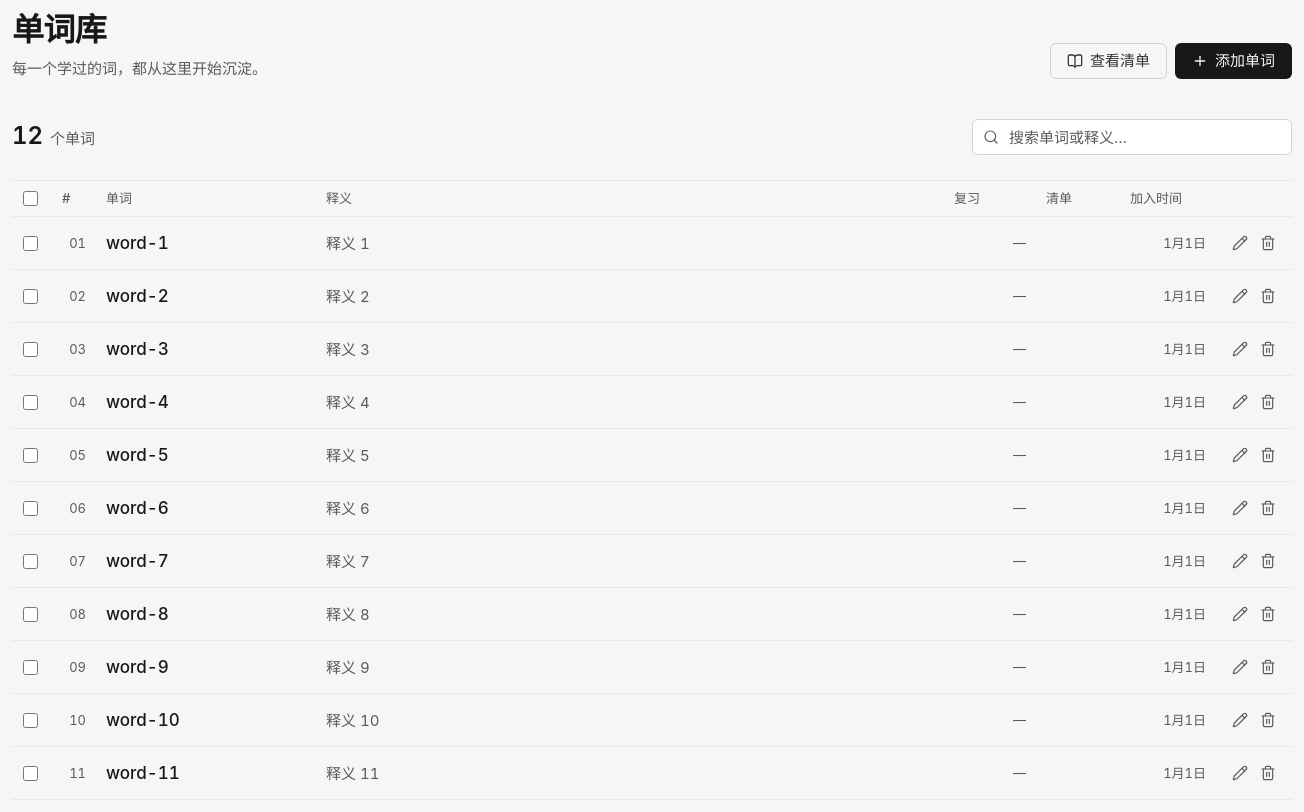
Scenario: 单词的批量删除 › 清空选择后操作条消失
Click the checkbox named "选择 word-1" at (30, 243), box [22,236,38,251]
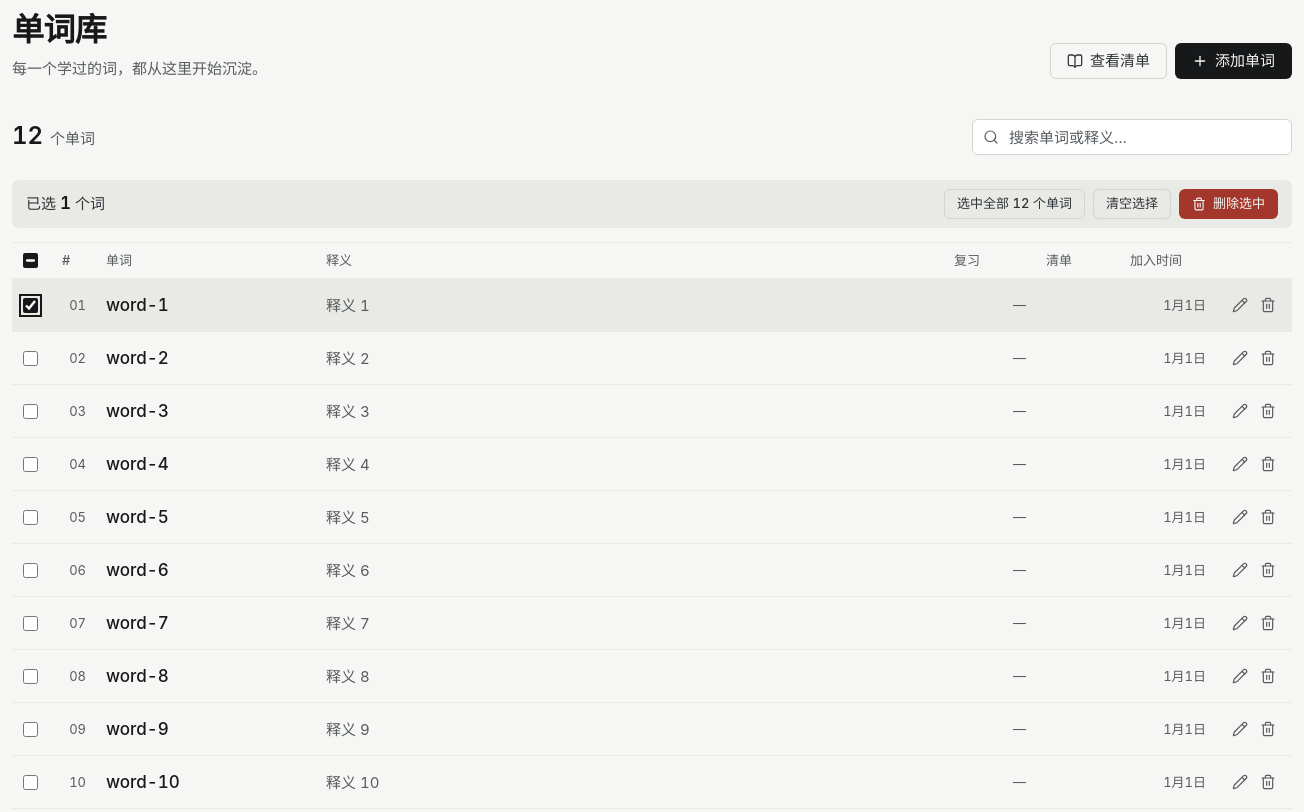
Click the checkbox named "选择 word-2" at (30, 358), box [22,351,38,366]
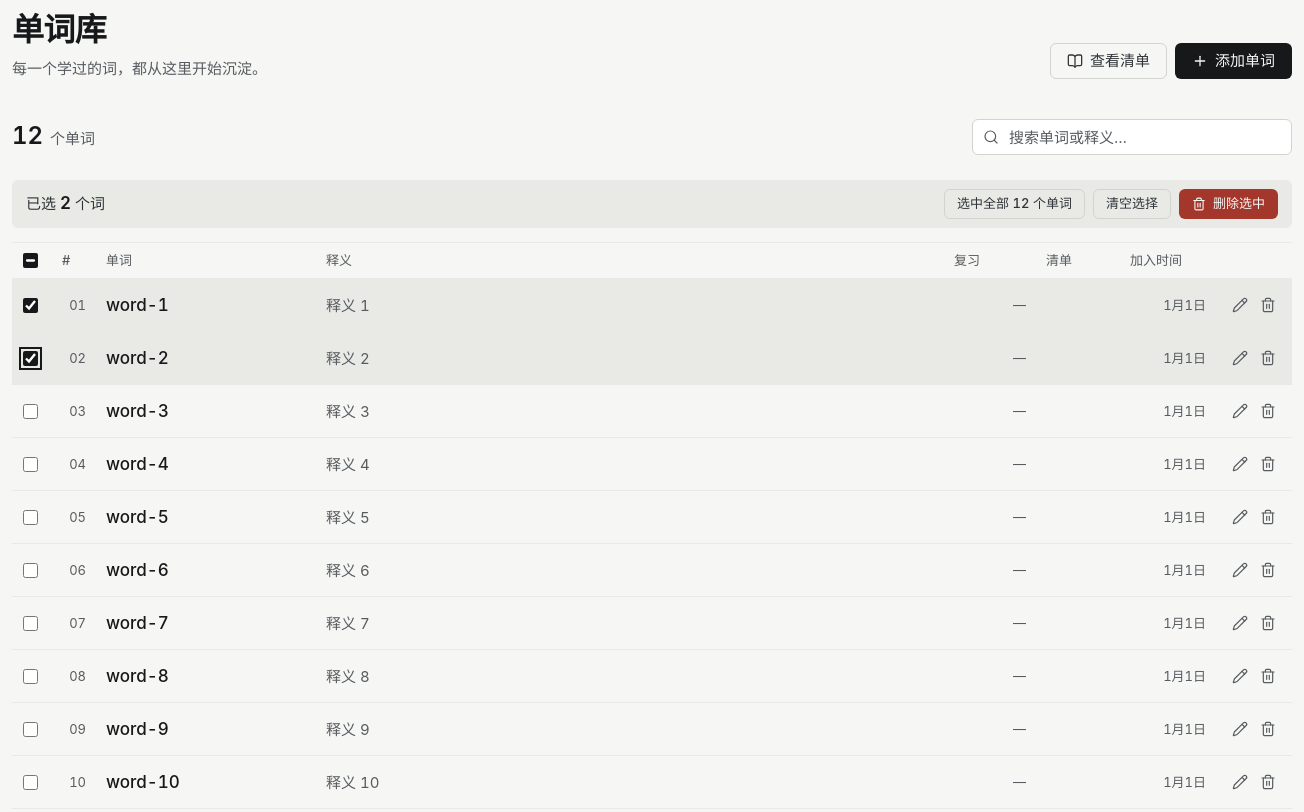
Click the button "清空选择" at (1132, 204), box [1093,189,1171,219]
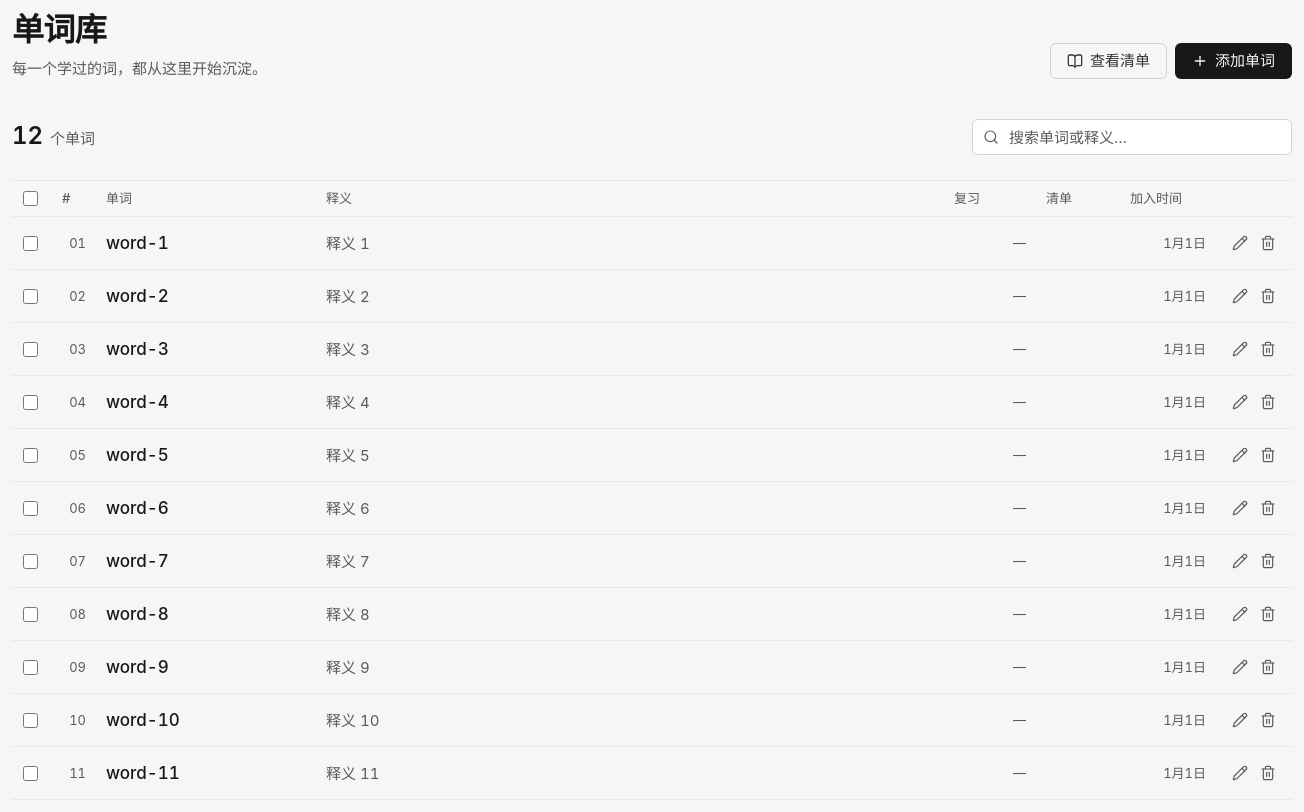
Expected: the checkbox named "选择 word-1" is not checked, [22,236,38,251]
Expected: the element "批量删除" is gone
